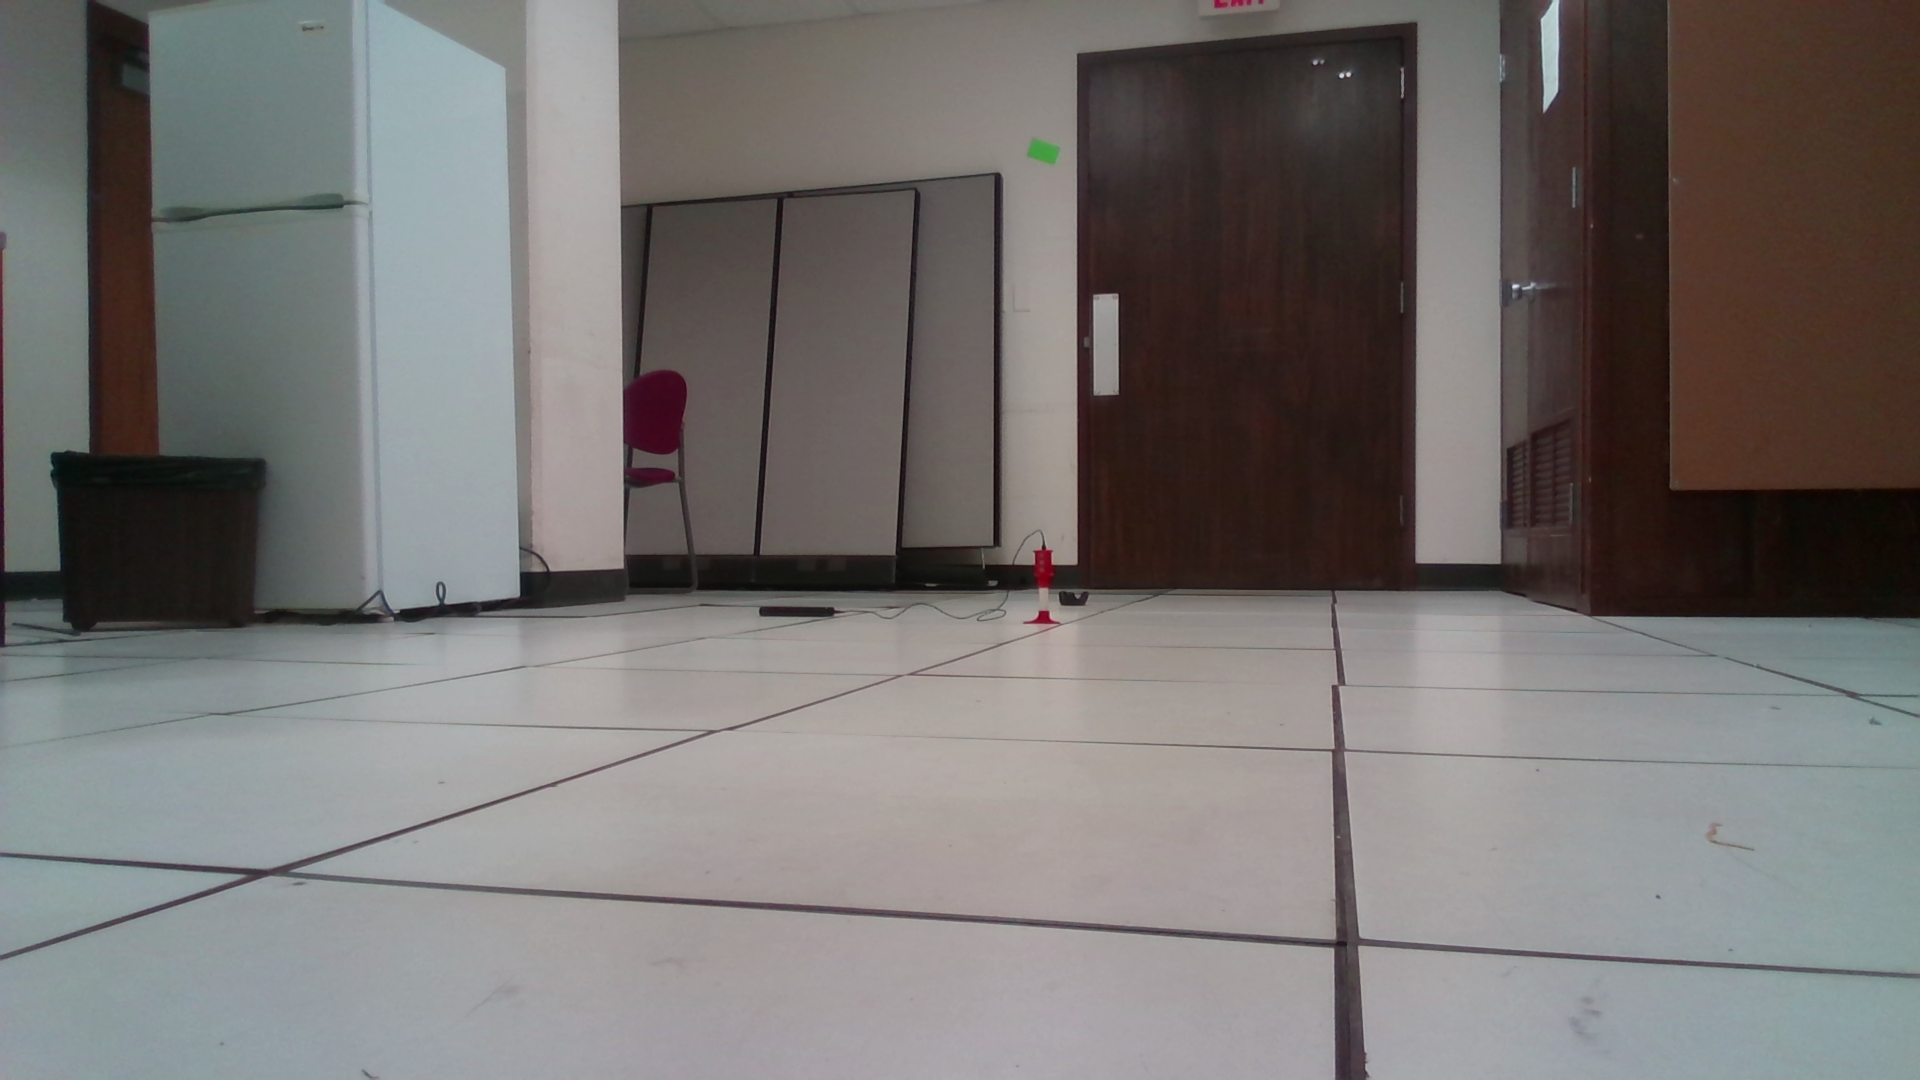stoplight: (1033, 545, 1058, 589)
